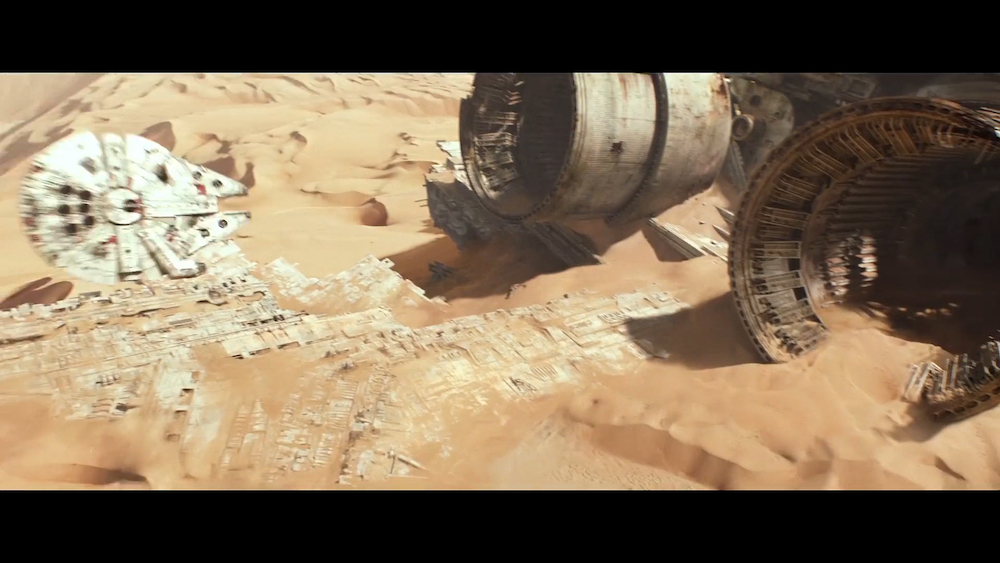Millennium Falcon: (19, 130, 253, 287)
